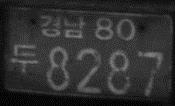0: (116, 17, 136, 41)
2: (75, 46, 104, 95)
7: (136, 50, 165, 97)
8: (45, 45, 70, 91), (107, 49, 131, 94), (94, 16, 114, 41)
경남_O: (39, 14, 86, 39)
두: (11, 43, 38, 75)
